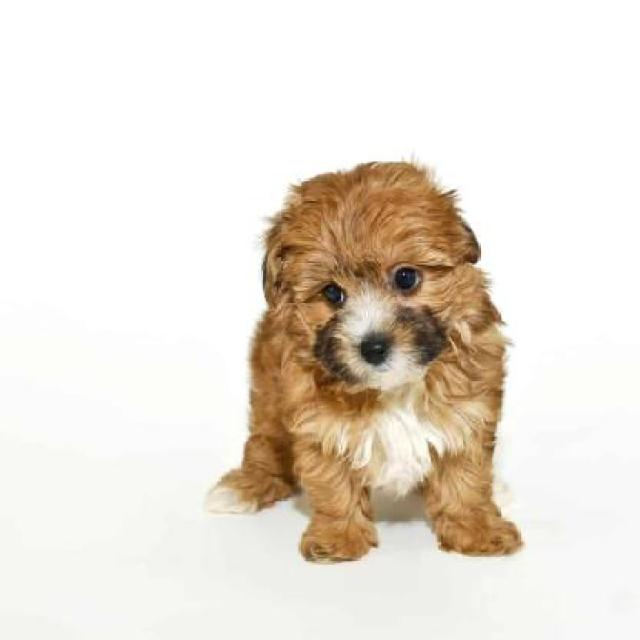animals: (237, 149, 528, 546)
